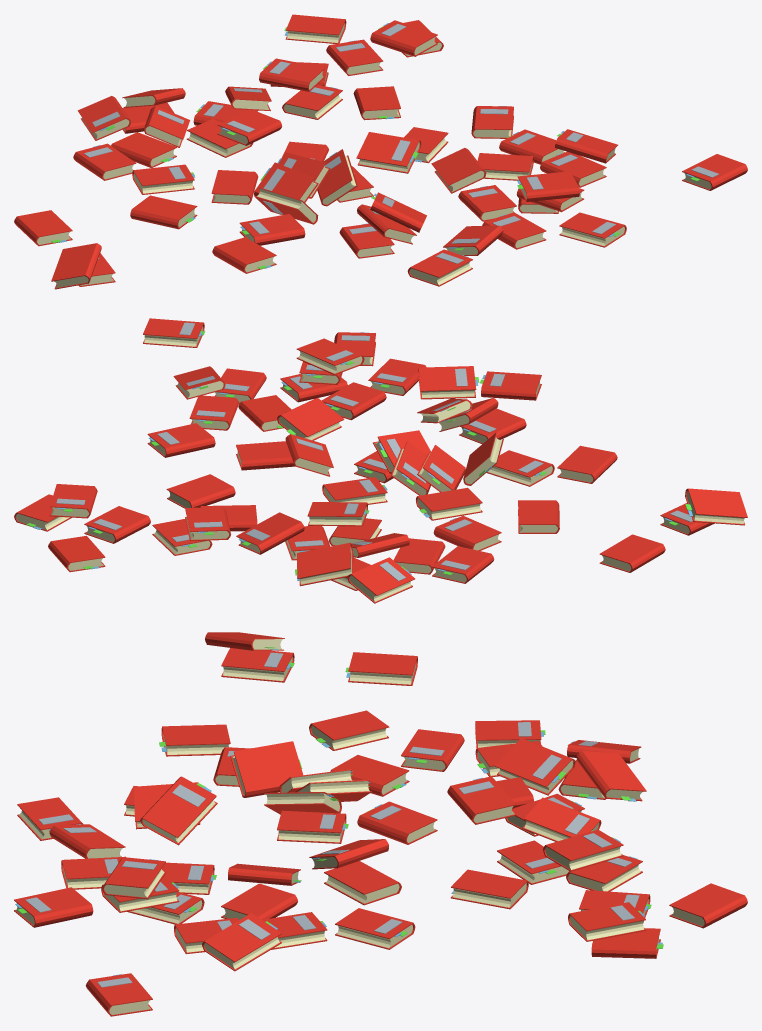
The model's file is bookPiles_03.fbx.
3 renders of one model, top to bottom at view 1: azimuth 30°, elevation 25°; view 2: azimuth 150°, elevation 25°; view 3: azimuth 270°, elevation 25°, orthographic. The views are drawn at different scales.
Visible parts, largest first — view 1: book_piles_03; view 2: book_piles_03; view 3: book_piles_03.
Part boxes in pixels (x1,y1,x2,y2): book_piles_03: (14,14,747,289); book_piles_03: (14,318,747,603); book_piles_03: (14,632,747,1016).
Size of the model in its own units: 410 by 21.68 by 340.
